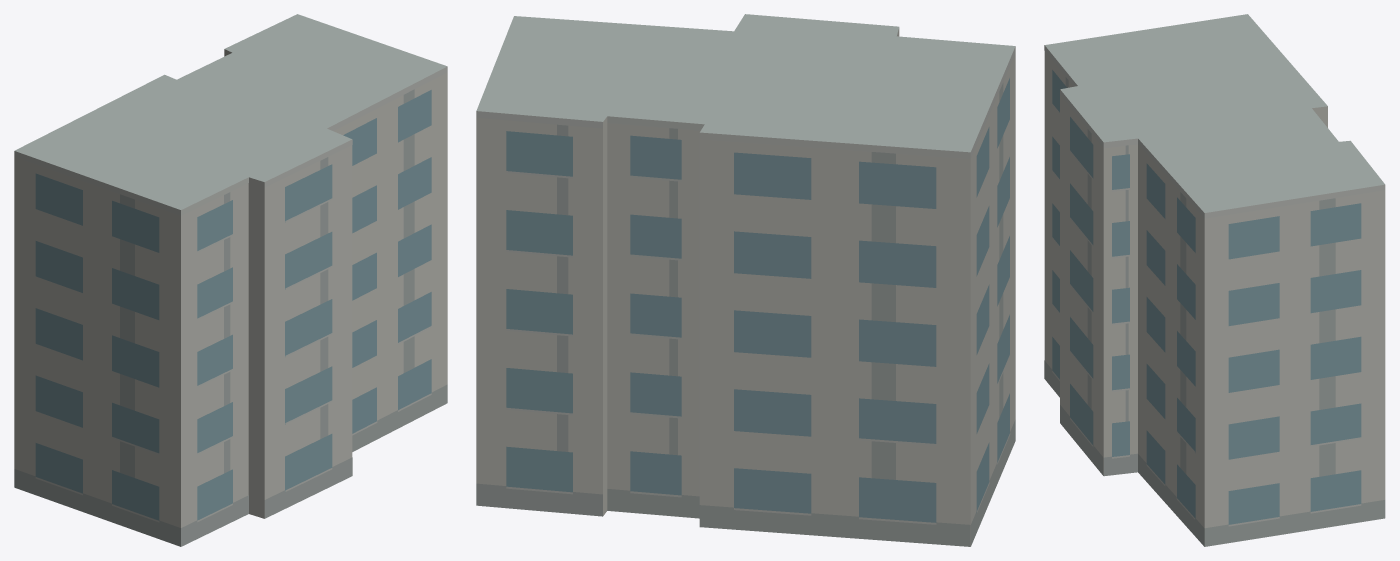
Rendered from survey-upis-32864800.glb.
3 renders of one model, left to right at view 1: azimuth 30°, elevation 25°; view 2: azimuth 150°, elevation 25°; view 3: azimuth 270°, elevation 25°, orthographic. The views are drawn at different scales.
Parts seen in each view (by area): view 1: survey-upis-32864800.tmp; view 2: survey-upis-32864800.tmp; view 3: survey-upis-32864800.tmp.
Part boxes in pixels (<box>): survey-upis-32864800.tmp: <box>14,14,447,546</box>; survey-upis-32864800.tmp: <box>476,14,1015,546</box>; survey-upis-32864800.tmp: <box>1044,14,1385,546</box>.
Bounding box in the file's own units: 18.24 × 14.25 × 13.19.
